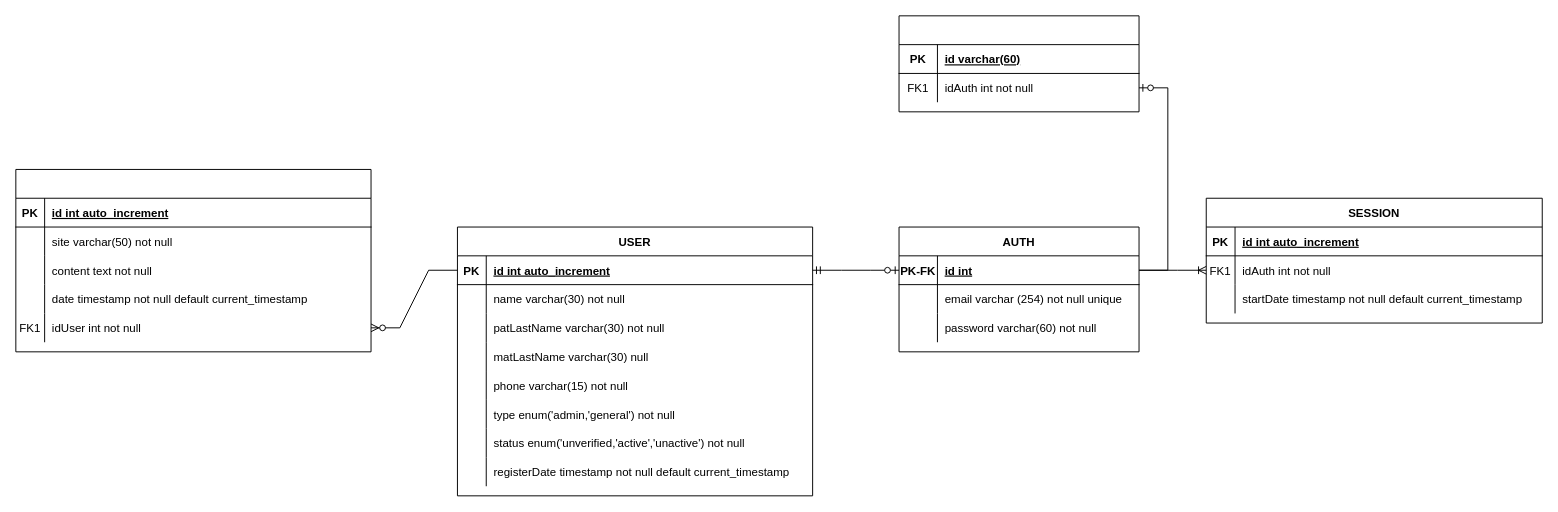
This 1558x512 diagram has some shape labels left out. Here are the shapes that lost their labels. From the top down, the box of each, then its label:
(898, 15, 1139, 112): TOKEN
(15, 168, 371, 352): SUMMARY
